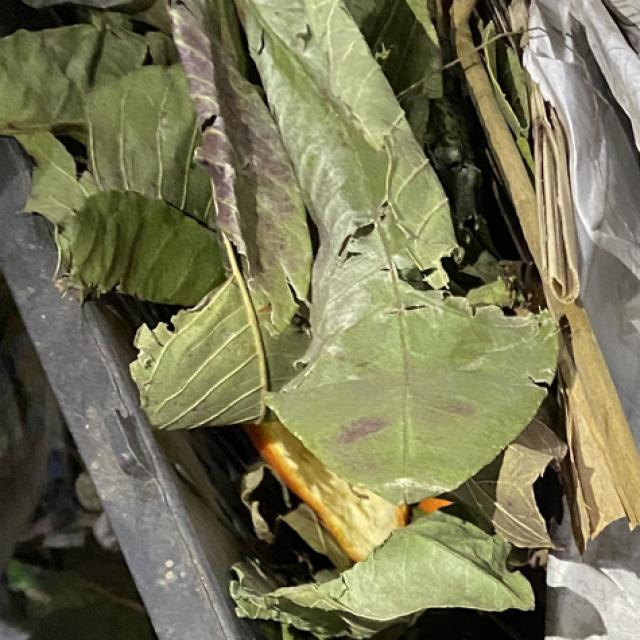paper: (234, 6, 562, 509), (29, 101, 204, 314)
